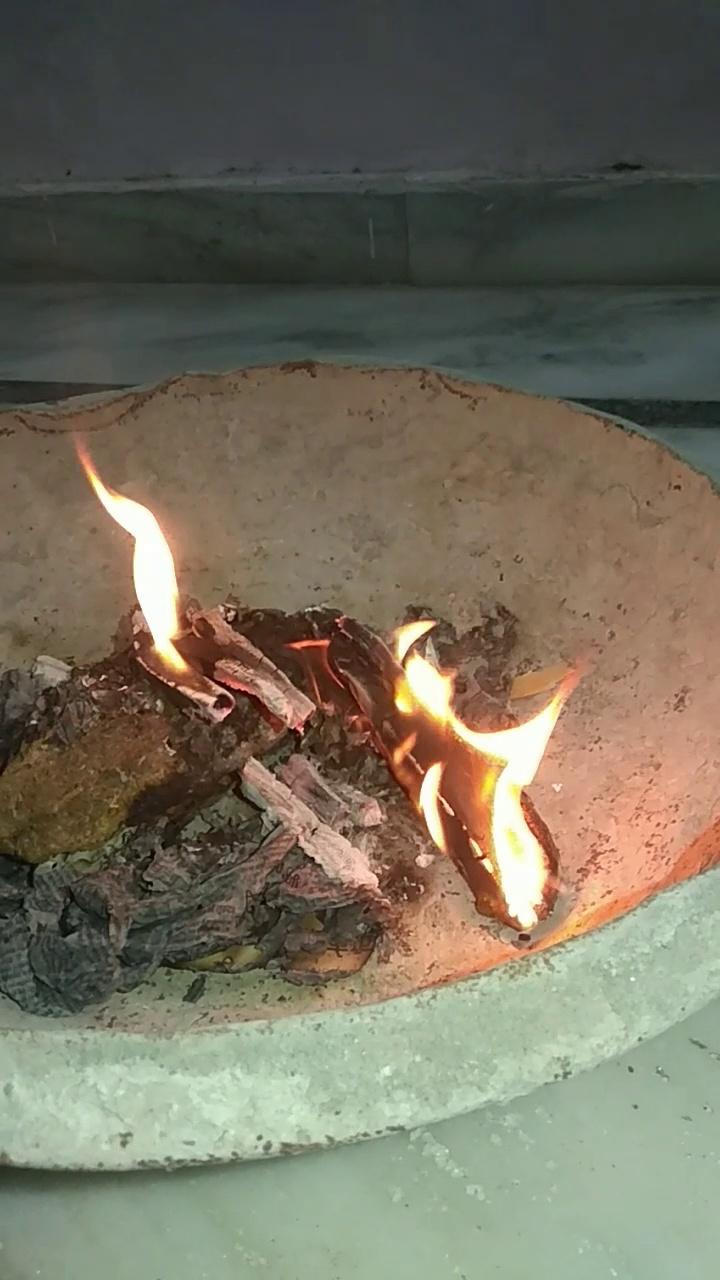fire: (357, 620, 582, 900), (57, 435, 240, 687)
